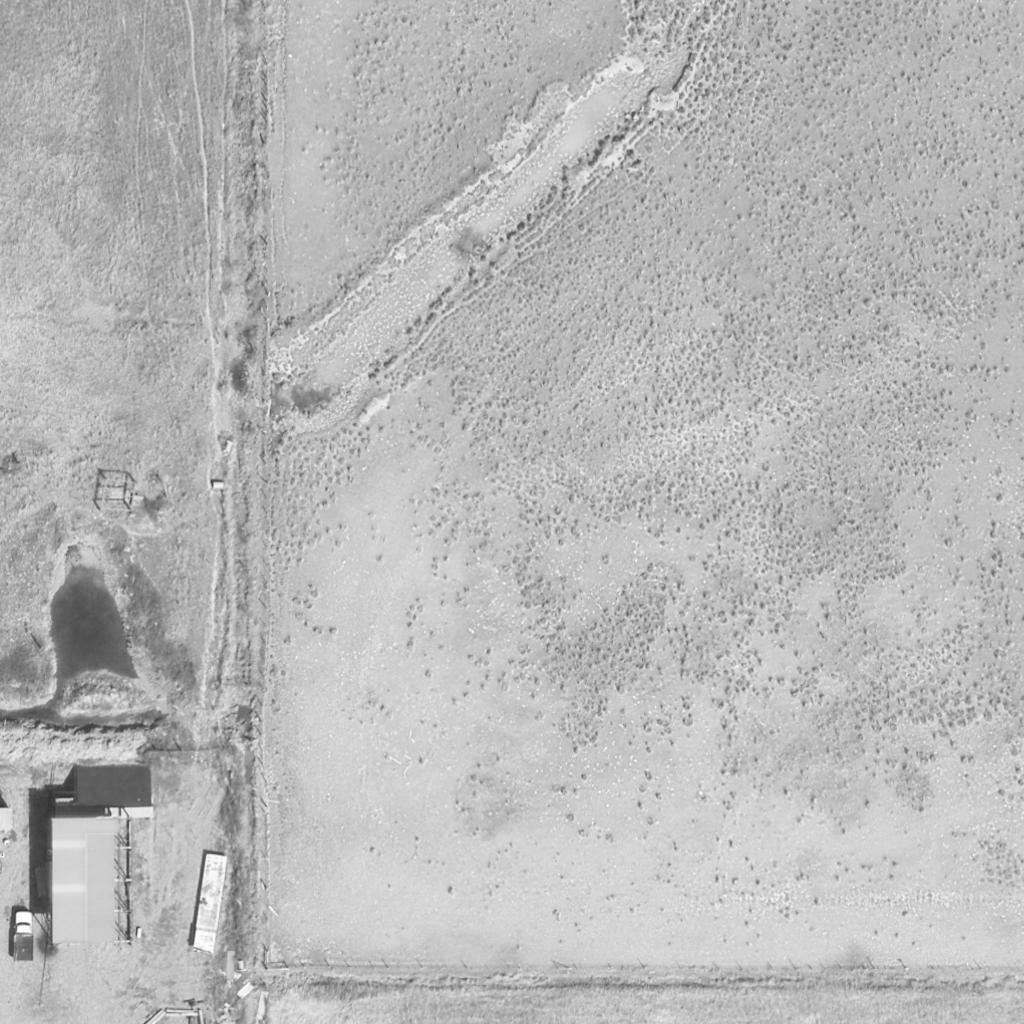vehicle: (12, 912, 34, 964)
